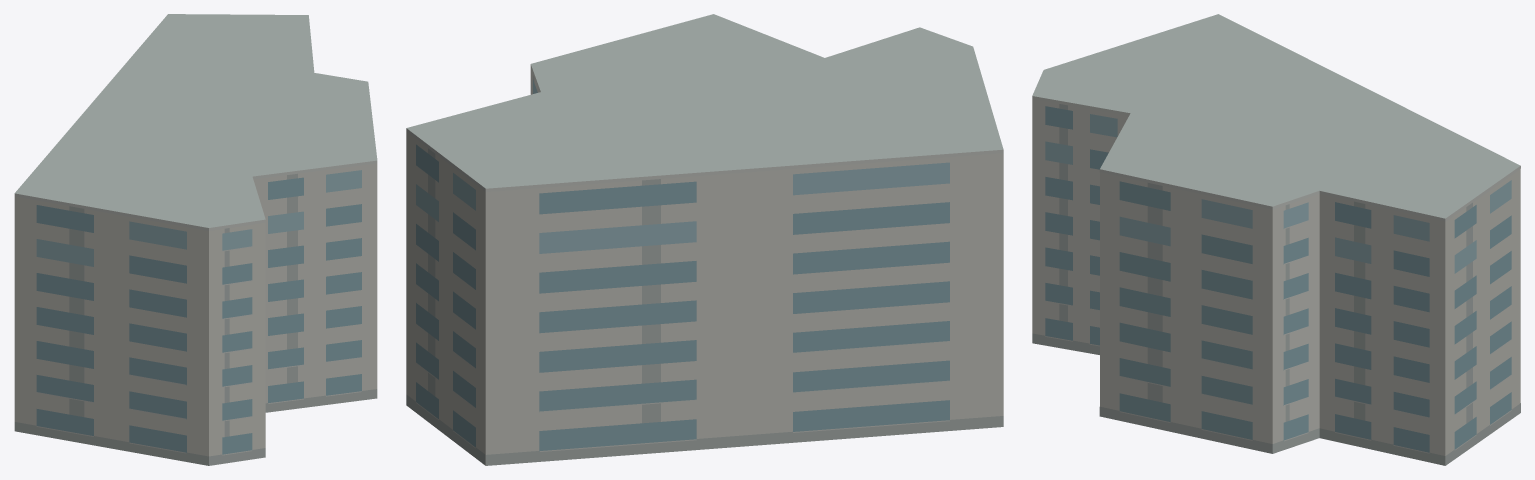
Rendered from survey-upis-32673404.glb.
3 renders of one model, left to right at view 1: azimuth 30°, elevation 25°; view 2: azimuth 150°, elevation 25°; view 3: azimuth 270°, elevation 25°, orthographic. The views are drawn at different scales.
Parts seen in each view (by area): view 1: survey-upis-32673404.tmp; view 2: survey-upis-32673404.tmp; view 3: survey-upis-32673404.tmp.
Boxes of the visible parts, box(x1,y1,x2,y2) form: survey-upis-32673404.tmp: box(14, 14, 377, 465); survey-upis-32673404.tmp: box(406, 14, 1003, 465); survey-upis-32673404.tmp: box(1032, 14, 1520, 465).
Size of the model in its own units: 34.08 by 19.2 by 34.39.
